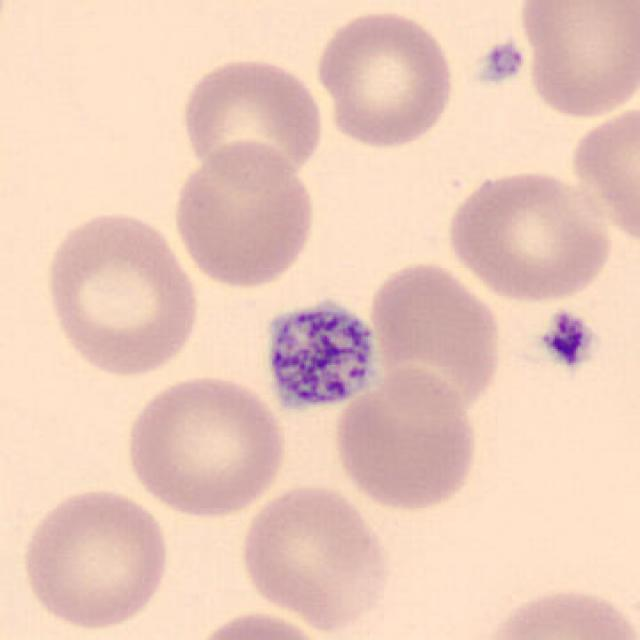Platelets: (260, 294, 384, 418), (539, 309, 597, 372), (475, 37, 528, 86)
RBC: (39, 204, 205, 381), (119, 370, 290, 520), (439, 164, 619, 305), (236, 480, 394, 633), (16, 483, 174, 633), (329, 363, 483, 515), (364, 256, 506, 420), (169, 137, 320, 291), (311, 5, 459, 152), (176, 51, 327, 191), (513, 0, 638, 123), (565, 99, 640, 250), (471, 580, 637, 640), (185, 608, 334, 640)
